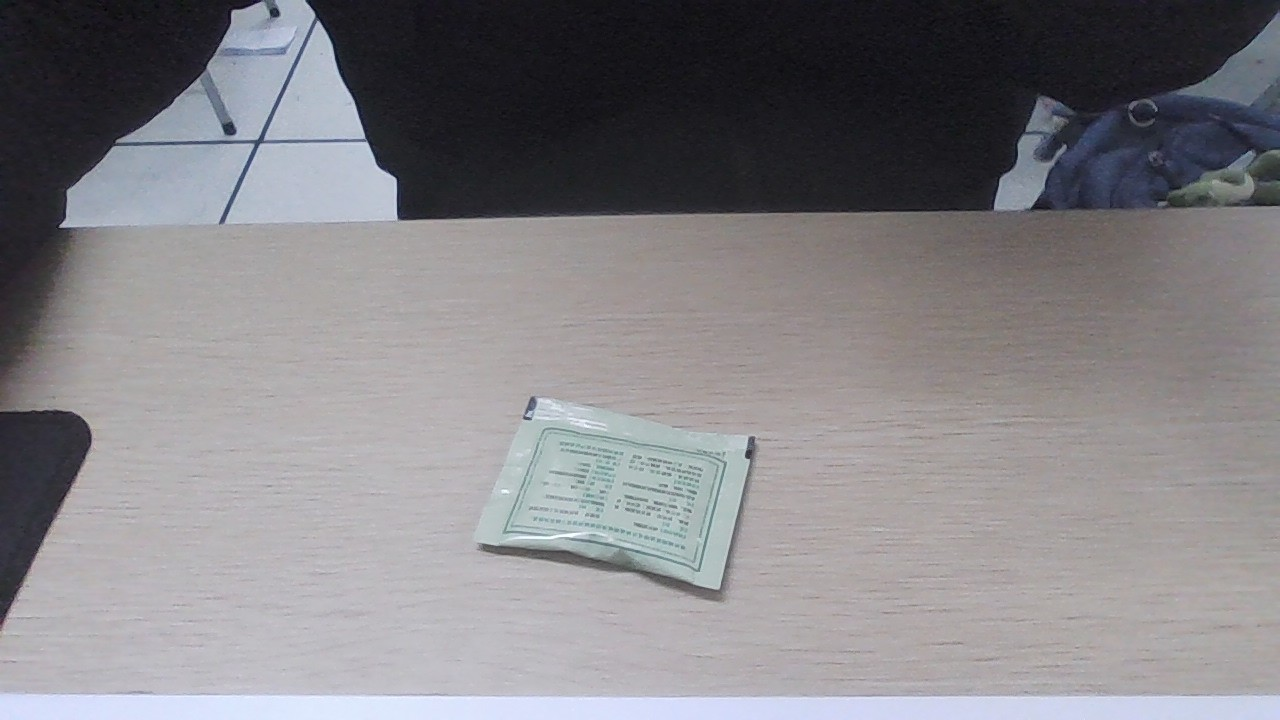YH-green medicine: (506, 422, 746, 580)
